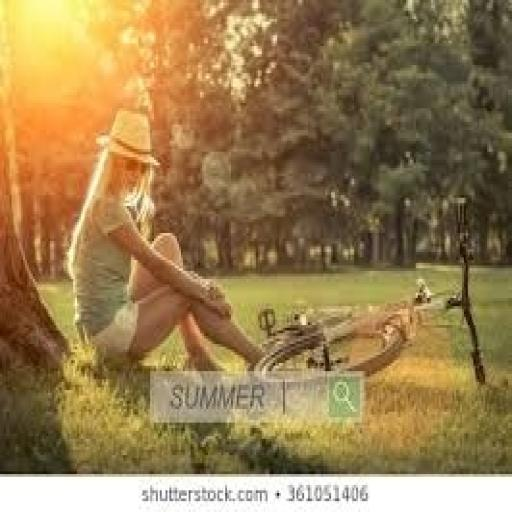sitting: (64, 106, 270, 374)
